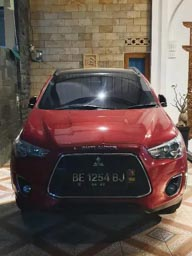plat: (70, 171, 125, 181)
